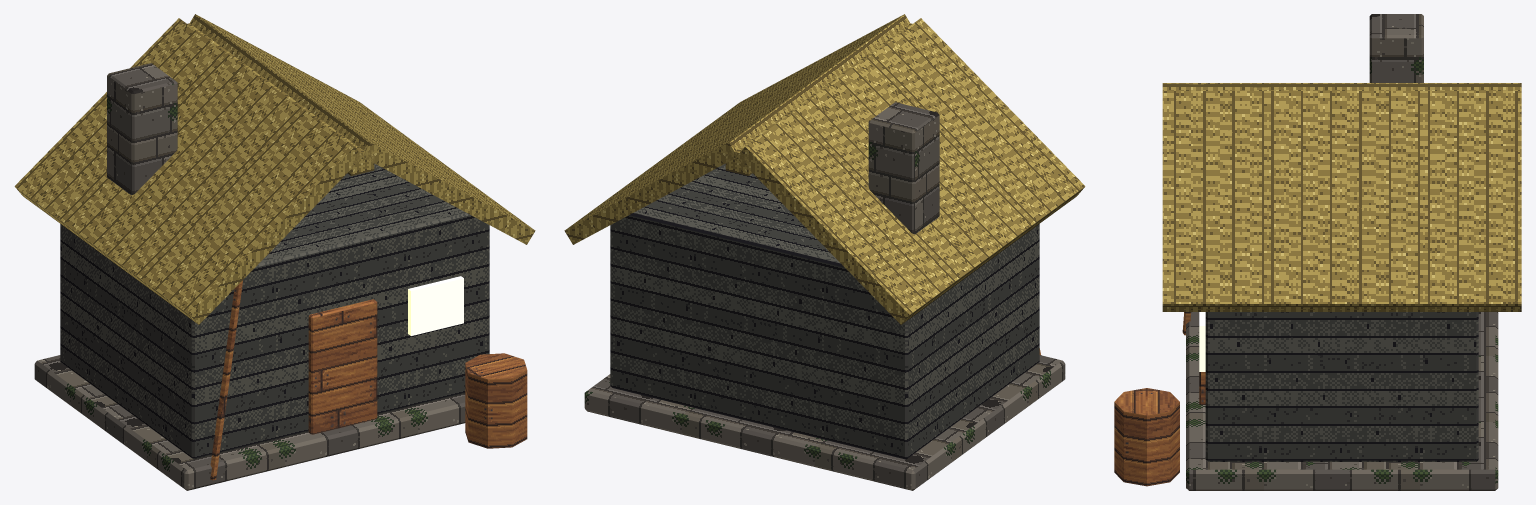
File: furia_hut.glb
3 views of the same model, side by side, from view 1: azimuth 30°, elevation 25°; view 2: azimuth 150°, elevation 25°; view 3: azimuth 270°, elevation 25° (orthographic). The views are drawn at different scales.
Parts seen in each view (by area): view 1: Hut, Glow; view 2: Hut; view 3: Hut.
Part boxes in pixels (x1,y1,x2,y2): Hut: [14, 14, 535, 490]; Glow: [408, 276, 463, 335]; Hut: [564, 14, 1085, 490]; Hut: [1114, 14, 1521, 490].
Size of the model in its own units: 5.22 by 4.7 by 5.22.
5 materials, 4 textured.
